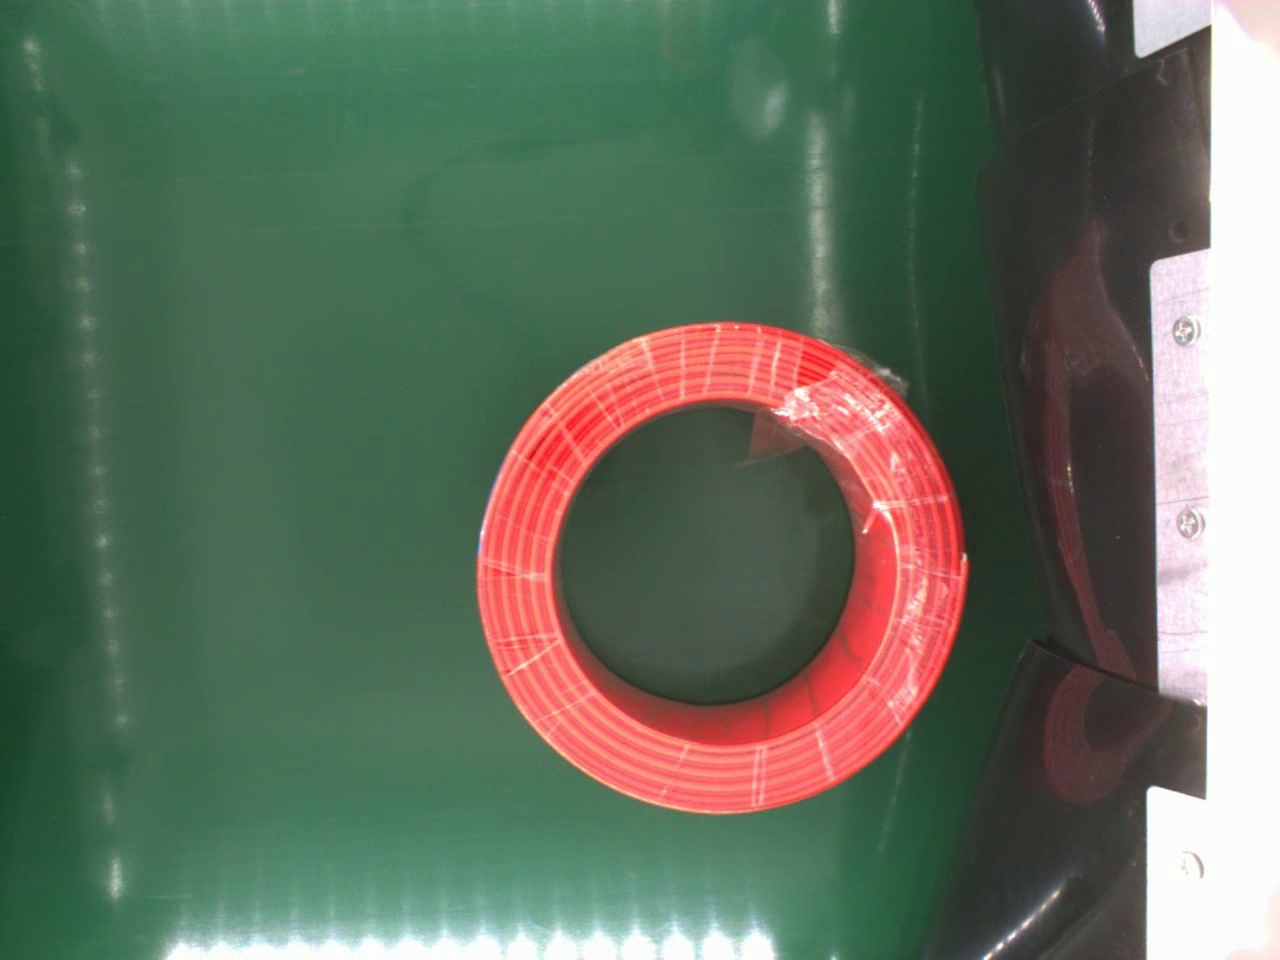red: (471, 321, 977, 816)
